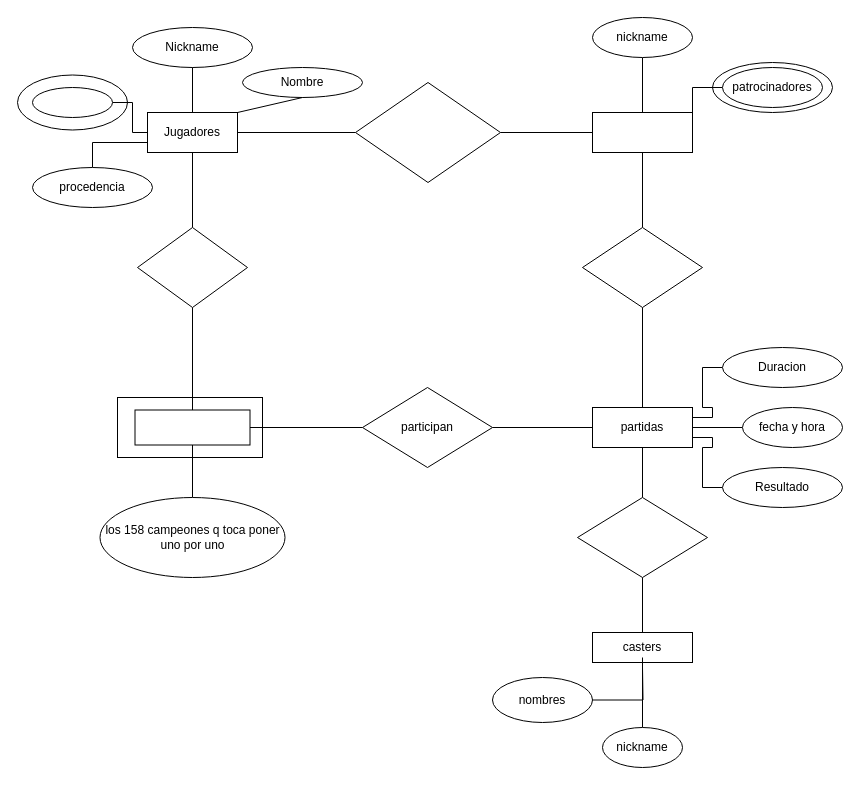
Image size: 860x785. Some labels were removed from this diagram. Here are the shapes that lost their labels. From the top down, the centre of each, then its label:
At pixel 72 102: "rol".
At pixel 427 132: "pertenecen".
At pixel 642 132: "equipos".
At pixel 192 267: "juegan con".
At pixel 642 267: "juegan".
At pixel 192 427: "canpeones".
At pixel 642 537: "castean".
